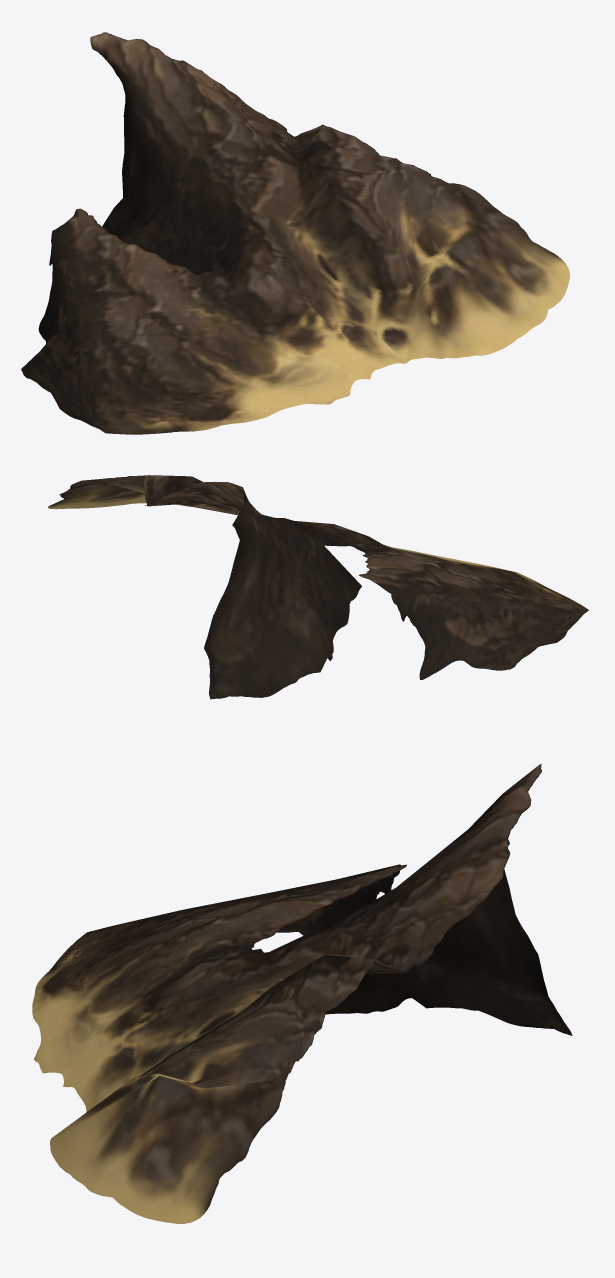
Rendered from rock_3_02.FBX.
3 renders of one model, top to bottom at view 1: azimuth 30°, elevation 25°; view 2: azimuth 150°, elevation 25°; view 3: azimuth 270°, elevation 25°, orthographic. The views are drawn at different scales.
Parts seen in each view (by area): view 1: rock_3_02; view 2: rock_3_02; view 3: rock_3_02.
Part boxes in pixels (x1,y1,x2,y2): rock_3_02: [21, 32, 569, 434]; rock_3_02: [48, 475, 588, 699]; rock_3_02: [32, 764, 572, 1223].
Bounding box in the file's own units: 405 × 169 × 304.
